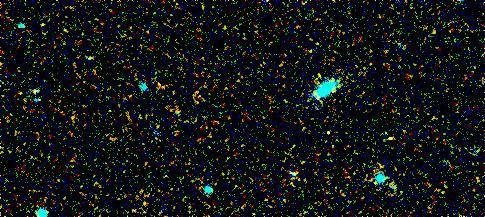star: (373, 124, 403, 154)
